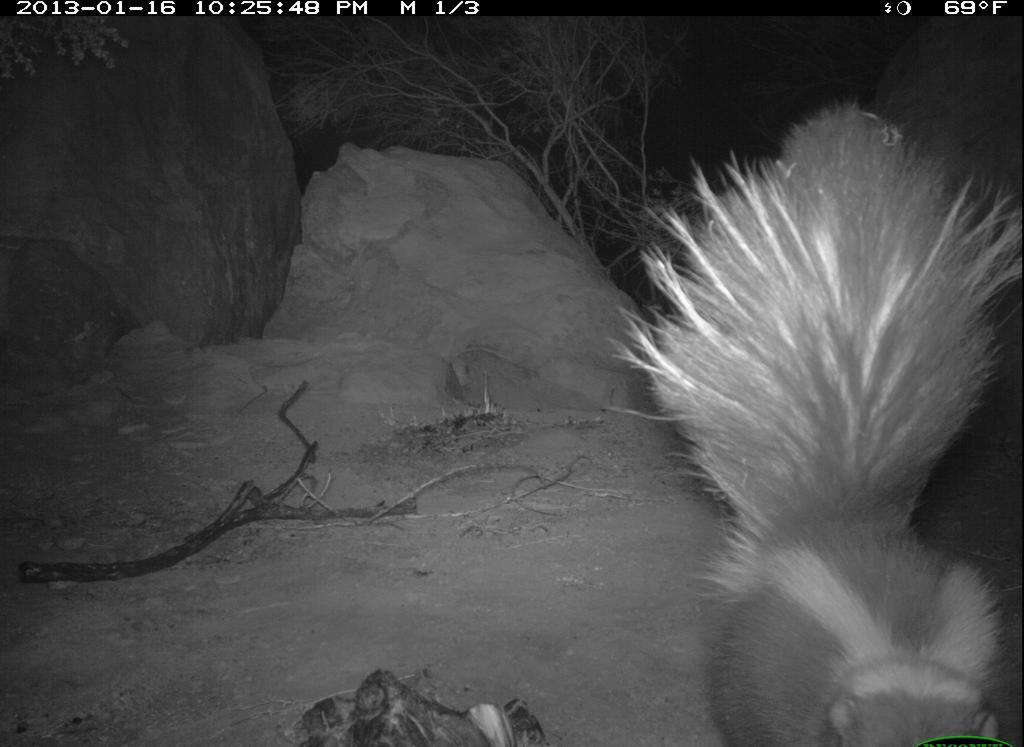skunk: (580, 100, 1022, 745)
